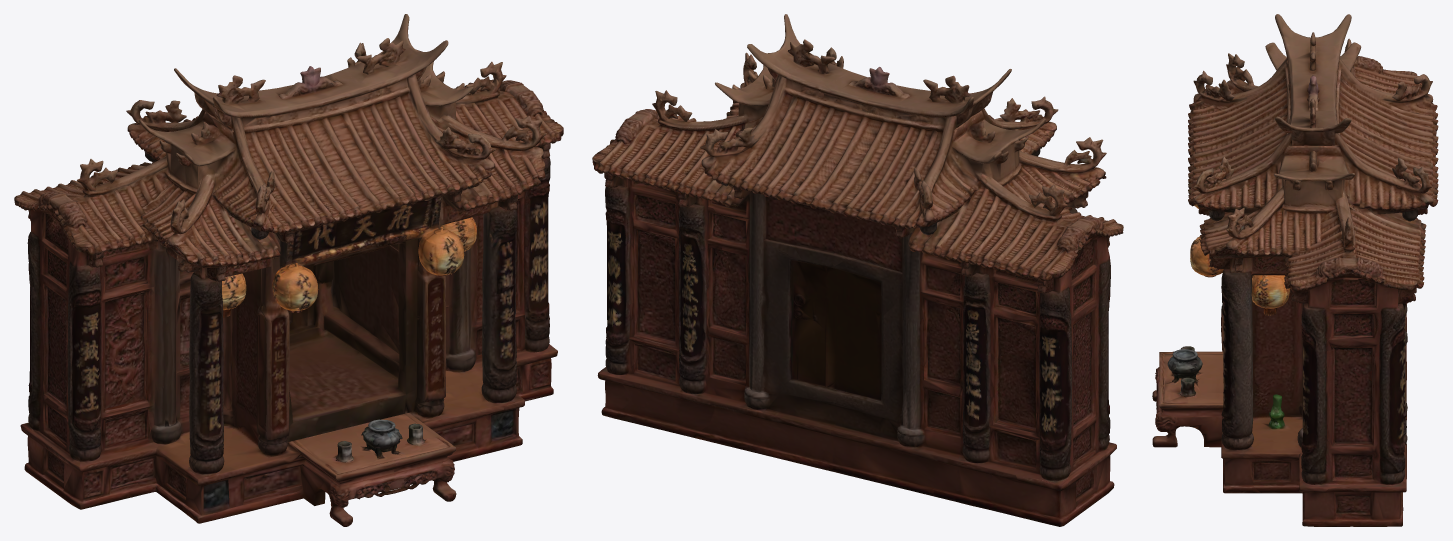
File: P06_Deity_Shrine.glb
3 views of the same model, side by side, from view 1: azimuth 30°, elevation 25°; view 2: azimuth 150°, elevation 25°; view 3: azimuth 270°, elevation 25° (orthographic). The views are drawn at different scales.
Parts seen in each view (by area): view 1: tripo_node_8692751d-c2e3-42d8-9858-deadea7430bd; view 2: tripo_node_8692751d-c2e3-42d8-9858-deadea7430bd; view 3: tripo_node_8692751d-c2e3-42d8-9858-deadea7430bd.
Part boxes in pixels (x1=…): tripo_node_8692751d-c2e3-42d8-9858-deadea7430bd: x1=14, y1=14, x2=563, y2=526; tripo_node_8692751d-c2e3-42d8-9858-deadea7430bd: x1=592, y1=14, x2=1123, y2=526; tripo_node_8692751d-c2e3-42d8-9858-deadea7430bd: x1=1152, y1=14, x2=1438, y2=526.
Bounding box in the file's own units: 0.9775 × 0.7576 × 0.5492.
1 material, 1 textured.
